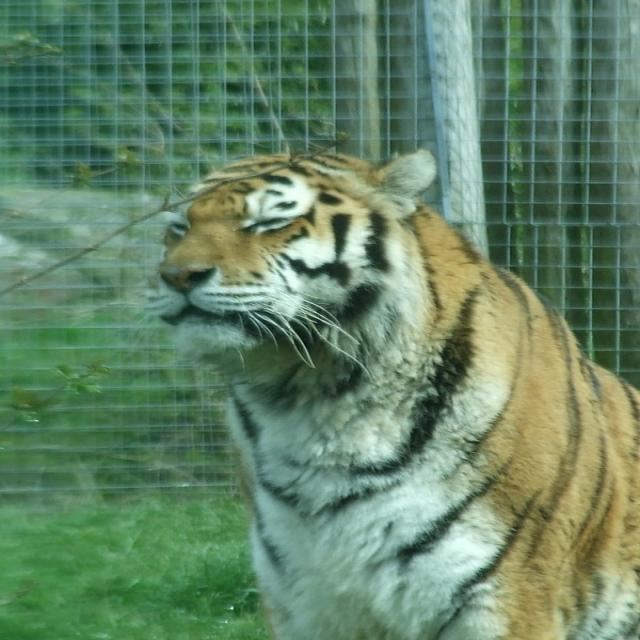Tiger: (123, 140, 634, 637)
